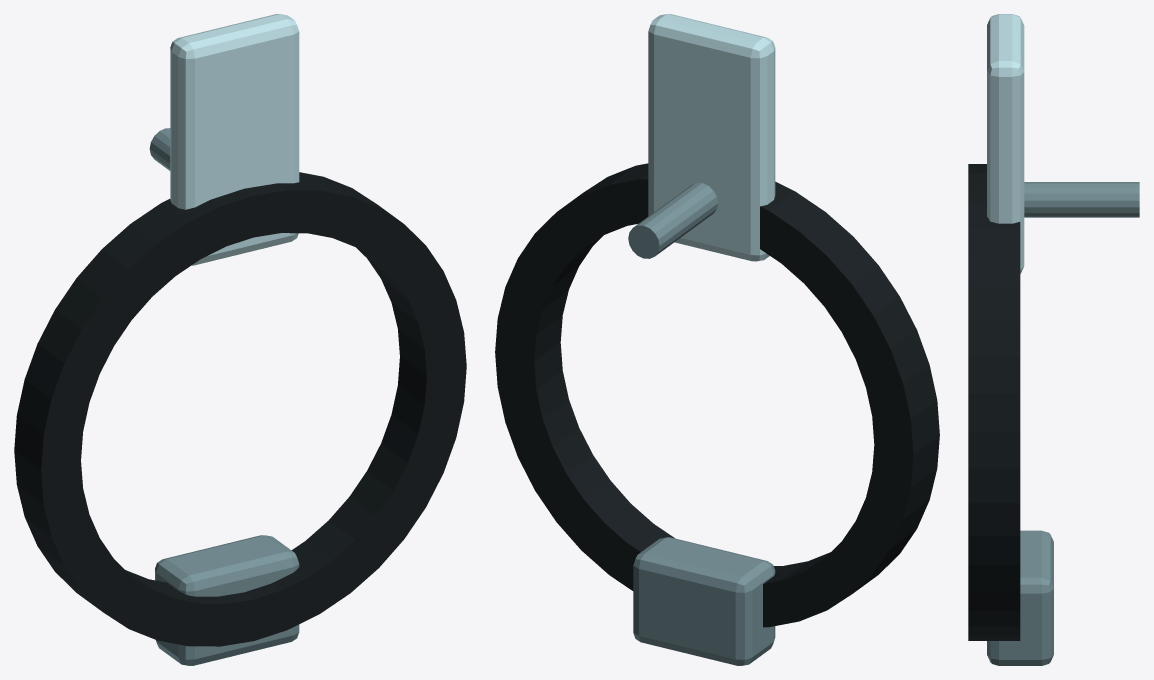
Rendered from collar_hook.glb.
3 renders of one model, left to right at view 1: azimuth 30°, elevation 25°; view 2: azimuth 150°, elevation 25°; view 3: azimuth 270°, elevation 25°, orthographic. The views are drawn at different scales.
Parts seen in each view (by area): view 1: Hanging collar strap, Hook backplate, Collar buckle, Collar hook; view 2: Hanging collar strap, Hook backplate, Collar buckle, Collar hook; view 3: Hanging collar strap, Hook backplate, Collar buckle, Collar hook.
Part boxes in pixels (left/top/right/bottom): Hanging collar strap: left=14, top=172, right=466, bottom=646; Hook backplate: left=170, top=14, right=299, bottom=265; Collar buckle: left=155, top=535, right=299, bottom=665; Collar hook: left=149, top=128, right=170, bottom=170; Hanging collar strap: left=495, top=163, right=939, bottom=627; Hook backplate: left=648, top=14, right=775, bottom=261; Collar buckle: left=633, top=537, right=775, bottom=665; Collar hook: left=628, top=182, right=717, bottom=258; Hanging collar strap: left=968, top=164, right=1020, bottom=640; Hook backplate: left=987, top=14, right=1024, bottom=273; Collar buckle: left=987, top=530, right=1053, bottom=665; Collar hook: left=1024, top=182, right=1139, bottom=217.
Bounding box in the file's own units: 0.32 × 0.4475 × 0.115.
